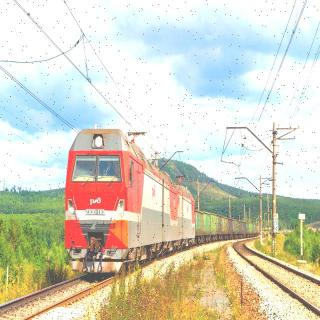poezd: (69, 129, 196, 269)
